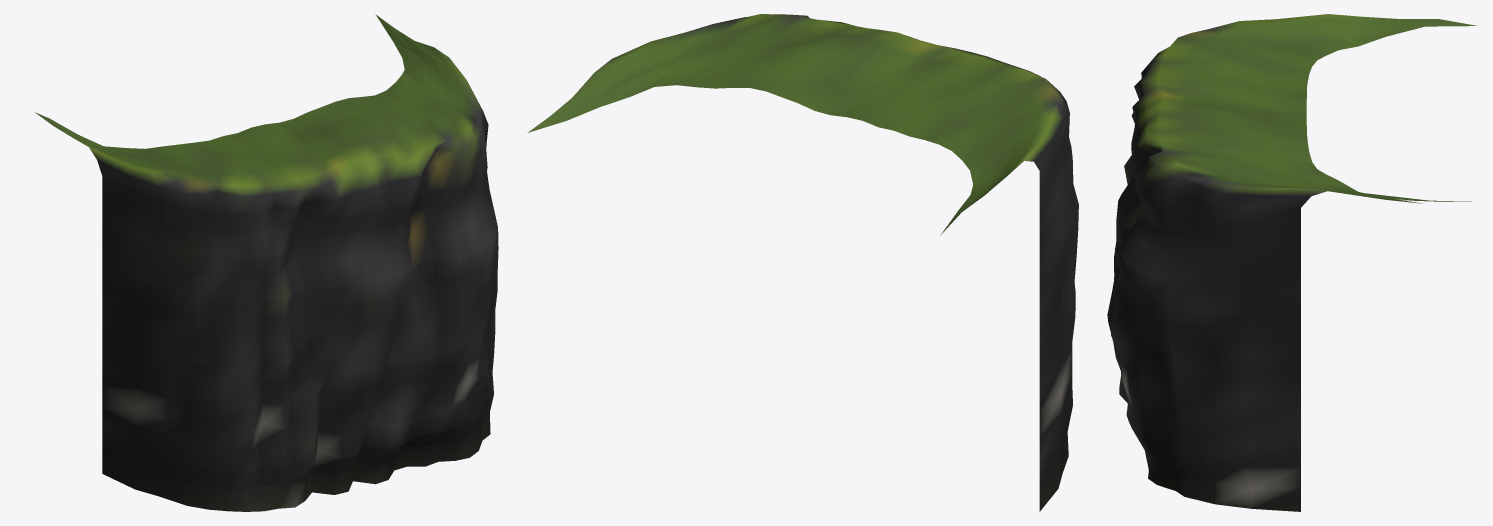
Rendered from cliff-face-c.lod1.glb.
3 views of the same model, side by side, from view 1: azimuth 30°, elevation 25°; view 2: azimuth 150°, elevation 25°; view 3: azimuth 270°, elevation 25° (orthographic). The views are drawn at different scales.
Bounding box in the file's own units: 7.36 × 6.28 × 6.48.
